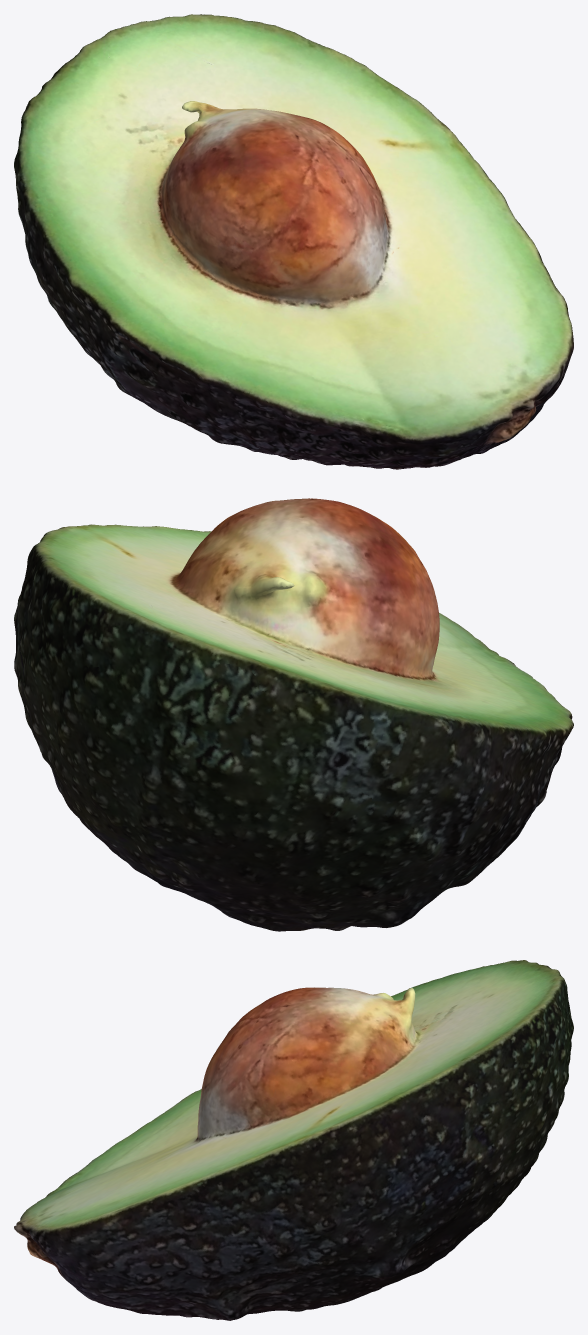
File: avocado.glb
3 renders of one model, top to bottom at view 1: azimuth 30°, elevation 25°; view 2: azimuth 150°, elevation 25°; view 3: azimuth 270°, elevation 25°, orthographic. The views are drawn at different scales.
Visible parts, largest first — view 1: Object_3, Object_2, Object_4; view 2: Object_3, Object_4, Object_2; view 3: Object_2, Object_4, Object_3.
Boxes of the visible parts, x1=… form: Object_3: x1=45, y1=14, x2=466, y2=455; Object_2: x1=269, y1=63, x2=573, y2=469; Object_4: x1=14, y1=21, x2=463, y2=468; Object_3: x1=14, y1=498, x2=573, y2=931; Object_4: x1=14, y1=503, x2=571, y2=928; Object_2: x1=14, y1=524, x2=498, y2=854; Object_2: x1=14, y1=1081, x2=486, y2=1320; Object_4: x1=36, y1=960, x2=573, y2=1291; Object_3: x1=59, y1=975, x2=573, y2=1282.
Size of the model in its own units: 68.16 by 52.86 by 89.26.
Materials: 1 (1 with a texture image).
